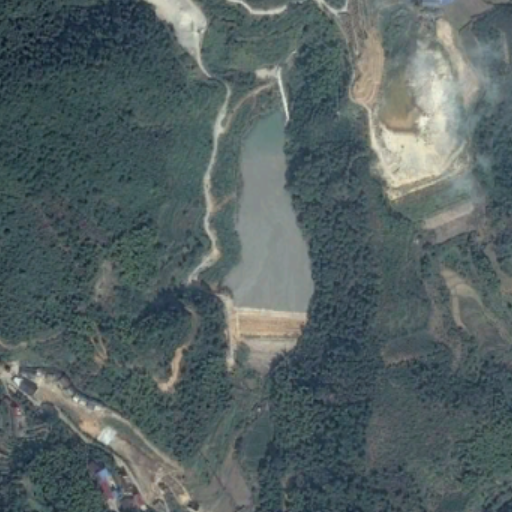tp: (225, 114, 313, 364)
